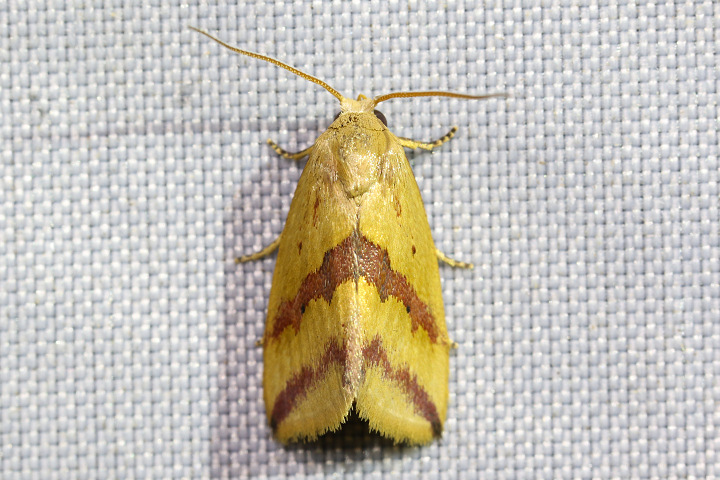Noctuidae: (189, 24, 502, 451)
